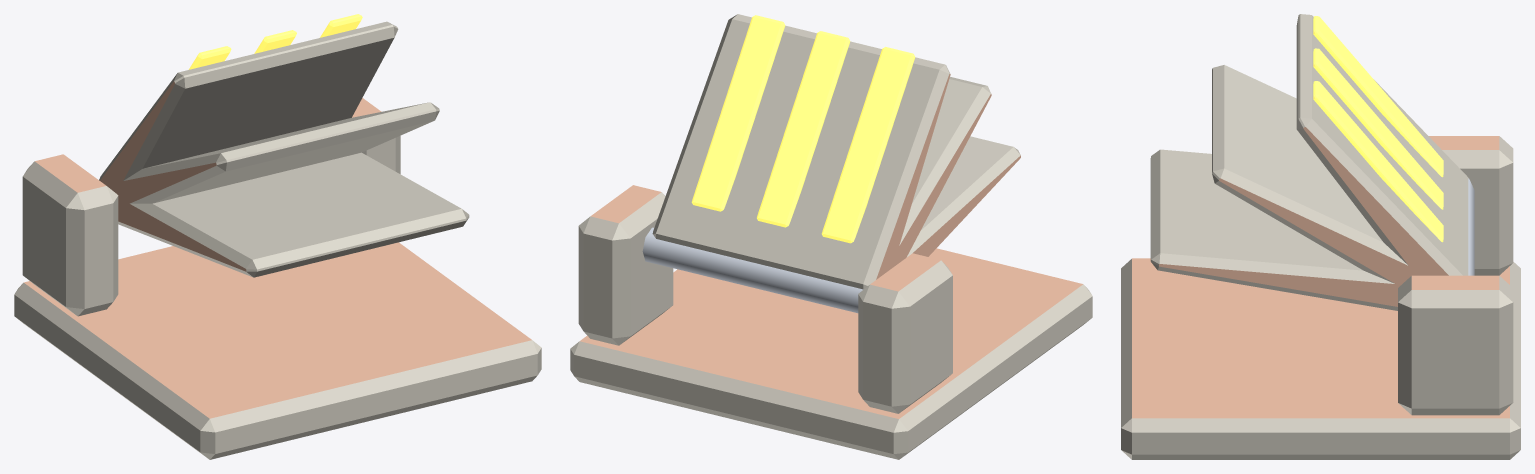
Rendered from R4X_RampDeployer_LOD1.fbx.
3 renders of one model, left to right at view 1: azimuth 30°, elevation 25°; view 2: azimuth 150°, elevation 25°; view 3: azimuth 270°, elevation 25°, orthographic. The views are drawn at different scales.
Parts seen in each view (by area): view 1: R4X_RampDeployer_LOD1; view 2: R4X_RampDeployer_LOD1; view 3: R4X_RampDeployer_LOD1.
Boxes of the visible parts, box(x1,y1,x2,y2) form: R4X_RampDeployer_LOD1: box(14, 14, 541, 459); R4X_RampDeployer_LOD1: box(570, 14, 1092, 459); R4X_RampDeployer_LOD1: box(1121, 14, 1520, 459).
Bounding box in the file's own units: 0.52 × 0.4662 × 0.52.
